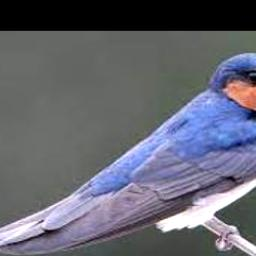Swallow: (0, 53, 256, 256)
